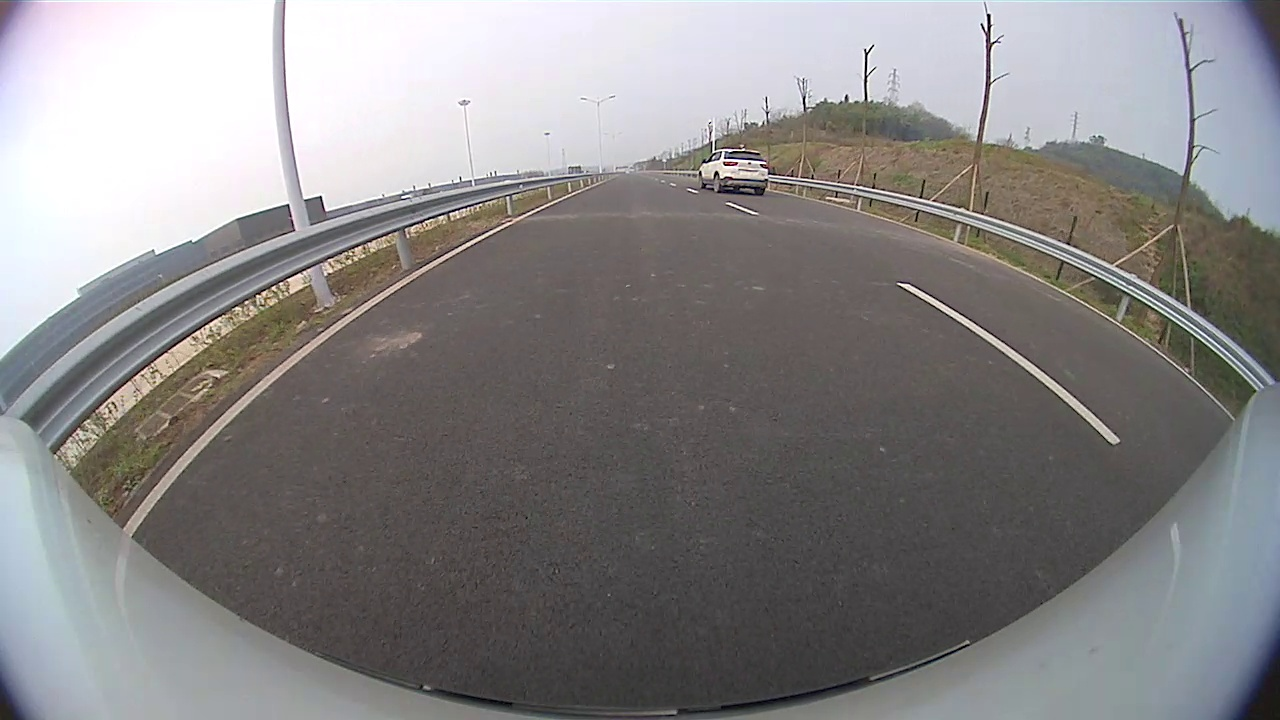car: (696, 147, 770, 197)
front: (698, 174, 708, 191)
rear: (711, 172, 723, 193)
